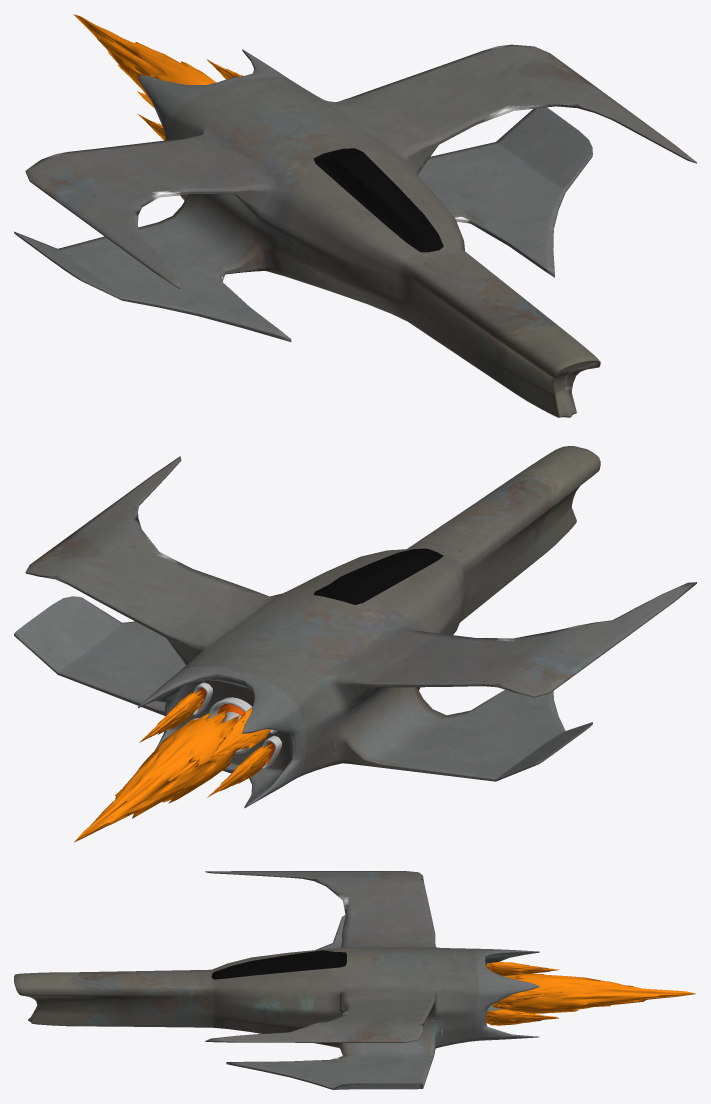
Rendered from ProShip_ForMerge.FBX.
The picture shows the model from 3 angles, top to bottom: view 1: azimuth 30°, elevation 25°; view 2: azimuth 150°, elevation 25°; view 3: azimuth 270°, elevation 25°; orthographic projection. The views are drawn at different scales.
Parts seen in each view (by area): view 1: PS_MainShip, PS_AS_Lg_flame01; view 2: PS_MainShip, PS_AS_Lg_flame01, PS_Sm_Flame03, PS_Sm_Flame01, PS_Sm_Flame04, PS_CentralThruster; view 3: PS_MainShip, PS_AS_Lg_flame01, PS_Sm_Flame02, PS_Sm_Flame03, PS_Sm_Flame01.
Boxes of the visible parts, x1=… form: PS_MainShip: x1=14, y1=44, x2=696, y2=417; PS_AS_Lg_flame01: x1=73, y1=14, x2=216, y2=108; PS_MainShip: x1=14, y1=446, x2=696, y2=807; PS_AS_Lg_flame01: x1=74, y1=707, x2=240, y2=842; PS_Sm_Flame03: x1=210, y1=707, x2=270, y2=758; PS_Sm_Flame01: x1=139, y1=690, x2=203, y2=742; PS_Sm_Flame04: x1=207, y1=744, x2=272, y2=797; PS_CentralThruster: x1=208, y1=697, x2=252, y2=753; PS_MainShip: x1=14, y1=871, x2=539, y2=1089; PS_AS_Lg_flame01: x1=492, y1=974, x2=695, y2=1013; PS_Sm_Flame02: x1=486, y1=1010, x2=558, y2=1025; PS_Sm_Flame03: x1=485, y1=962, x2=559, y2=976; PS_Sm_Flame01: x1=495, y1=987, x2=562, y2=1003.
Size of the model in its own units: 214 by 42.68 by 357.
